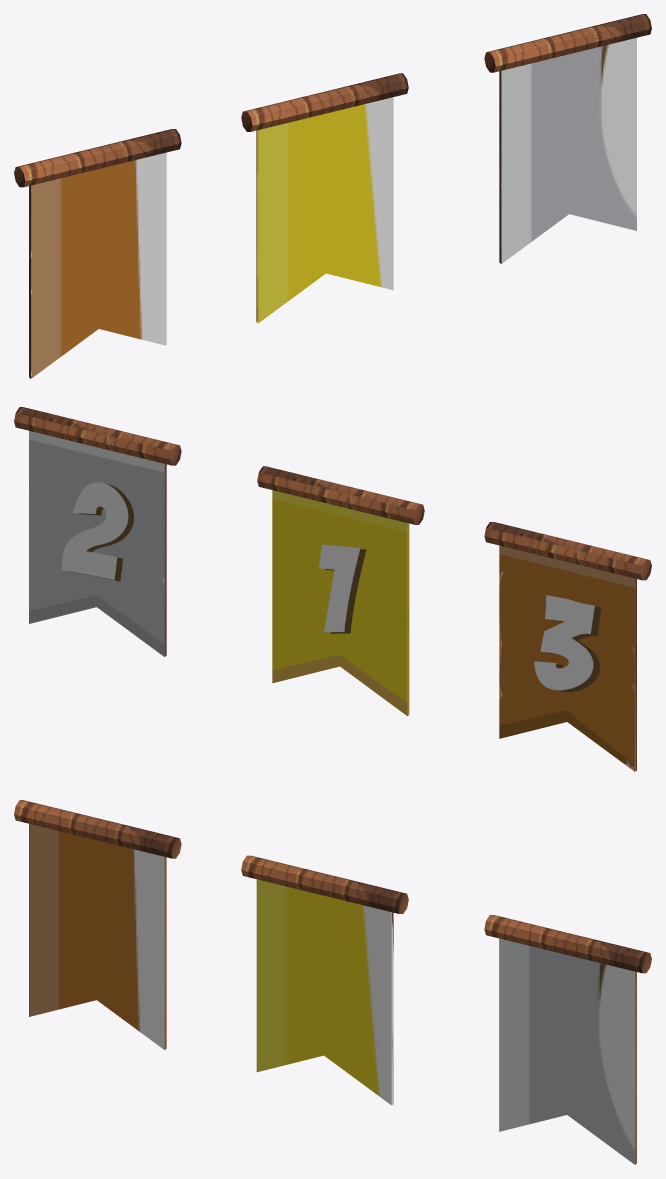
The model's file is Banderin.fbx.
3 views of the same model, one above another, from view 1: azimuth 30°, elevation 25°; view 2: azimuth 150°, elevation 25°; view 3: azimuth 330°, elevation 25° (orthographic).
Parts seen in each view (by area): view 1: Cylinder.002, Cylinder, Cylinder.001; view 2: Cylinder.002, Cylinder, Cylinder.001; view 3: Cylinder.001, Cylinder, Cylinder.002.
Boxes of the visible parts, bbox=[...] form: Cylinder.002: bbox=[484, 14, 651, 263]; Cylinder: bbox=[241, 73, 408, 323]; Cylinder.001: bbox=[14, 129, 181, 378]; Cylinder.002: bbox=[14, 407, 181, 656]; Cylinder: bbox=[257, 466, 424, 716]; Cylinder.001: bbox=[484, 522, 651, 771]; Cylinder.001: bbox=[14, 800, 181, 1049]; Cylinder: bbox=[241, 855, 408, 1105]; Cylinder.002: bbox=[484, 915, 651, 1164].
Bounding box in the file's own units: 4250 × 1385 × 133.
